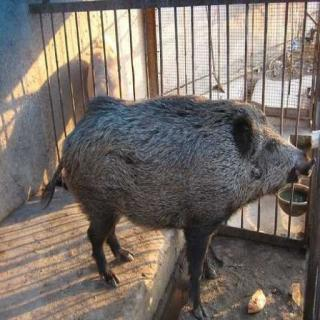Pig: (53, 73, 320, 296)
